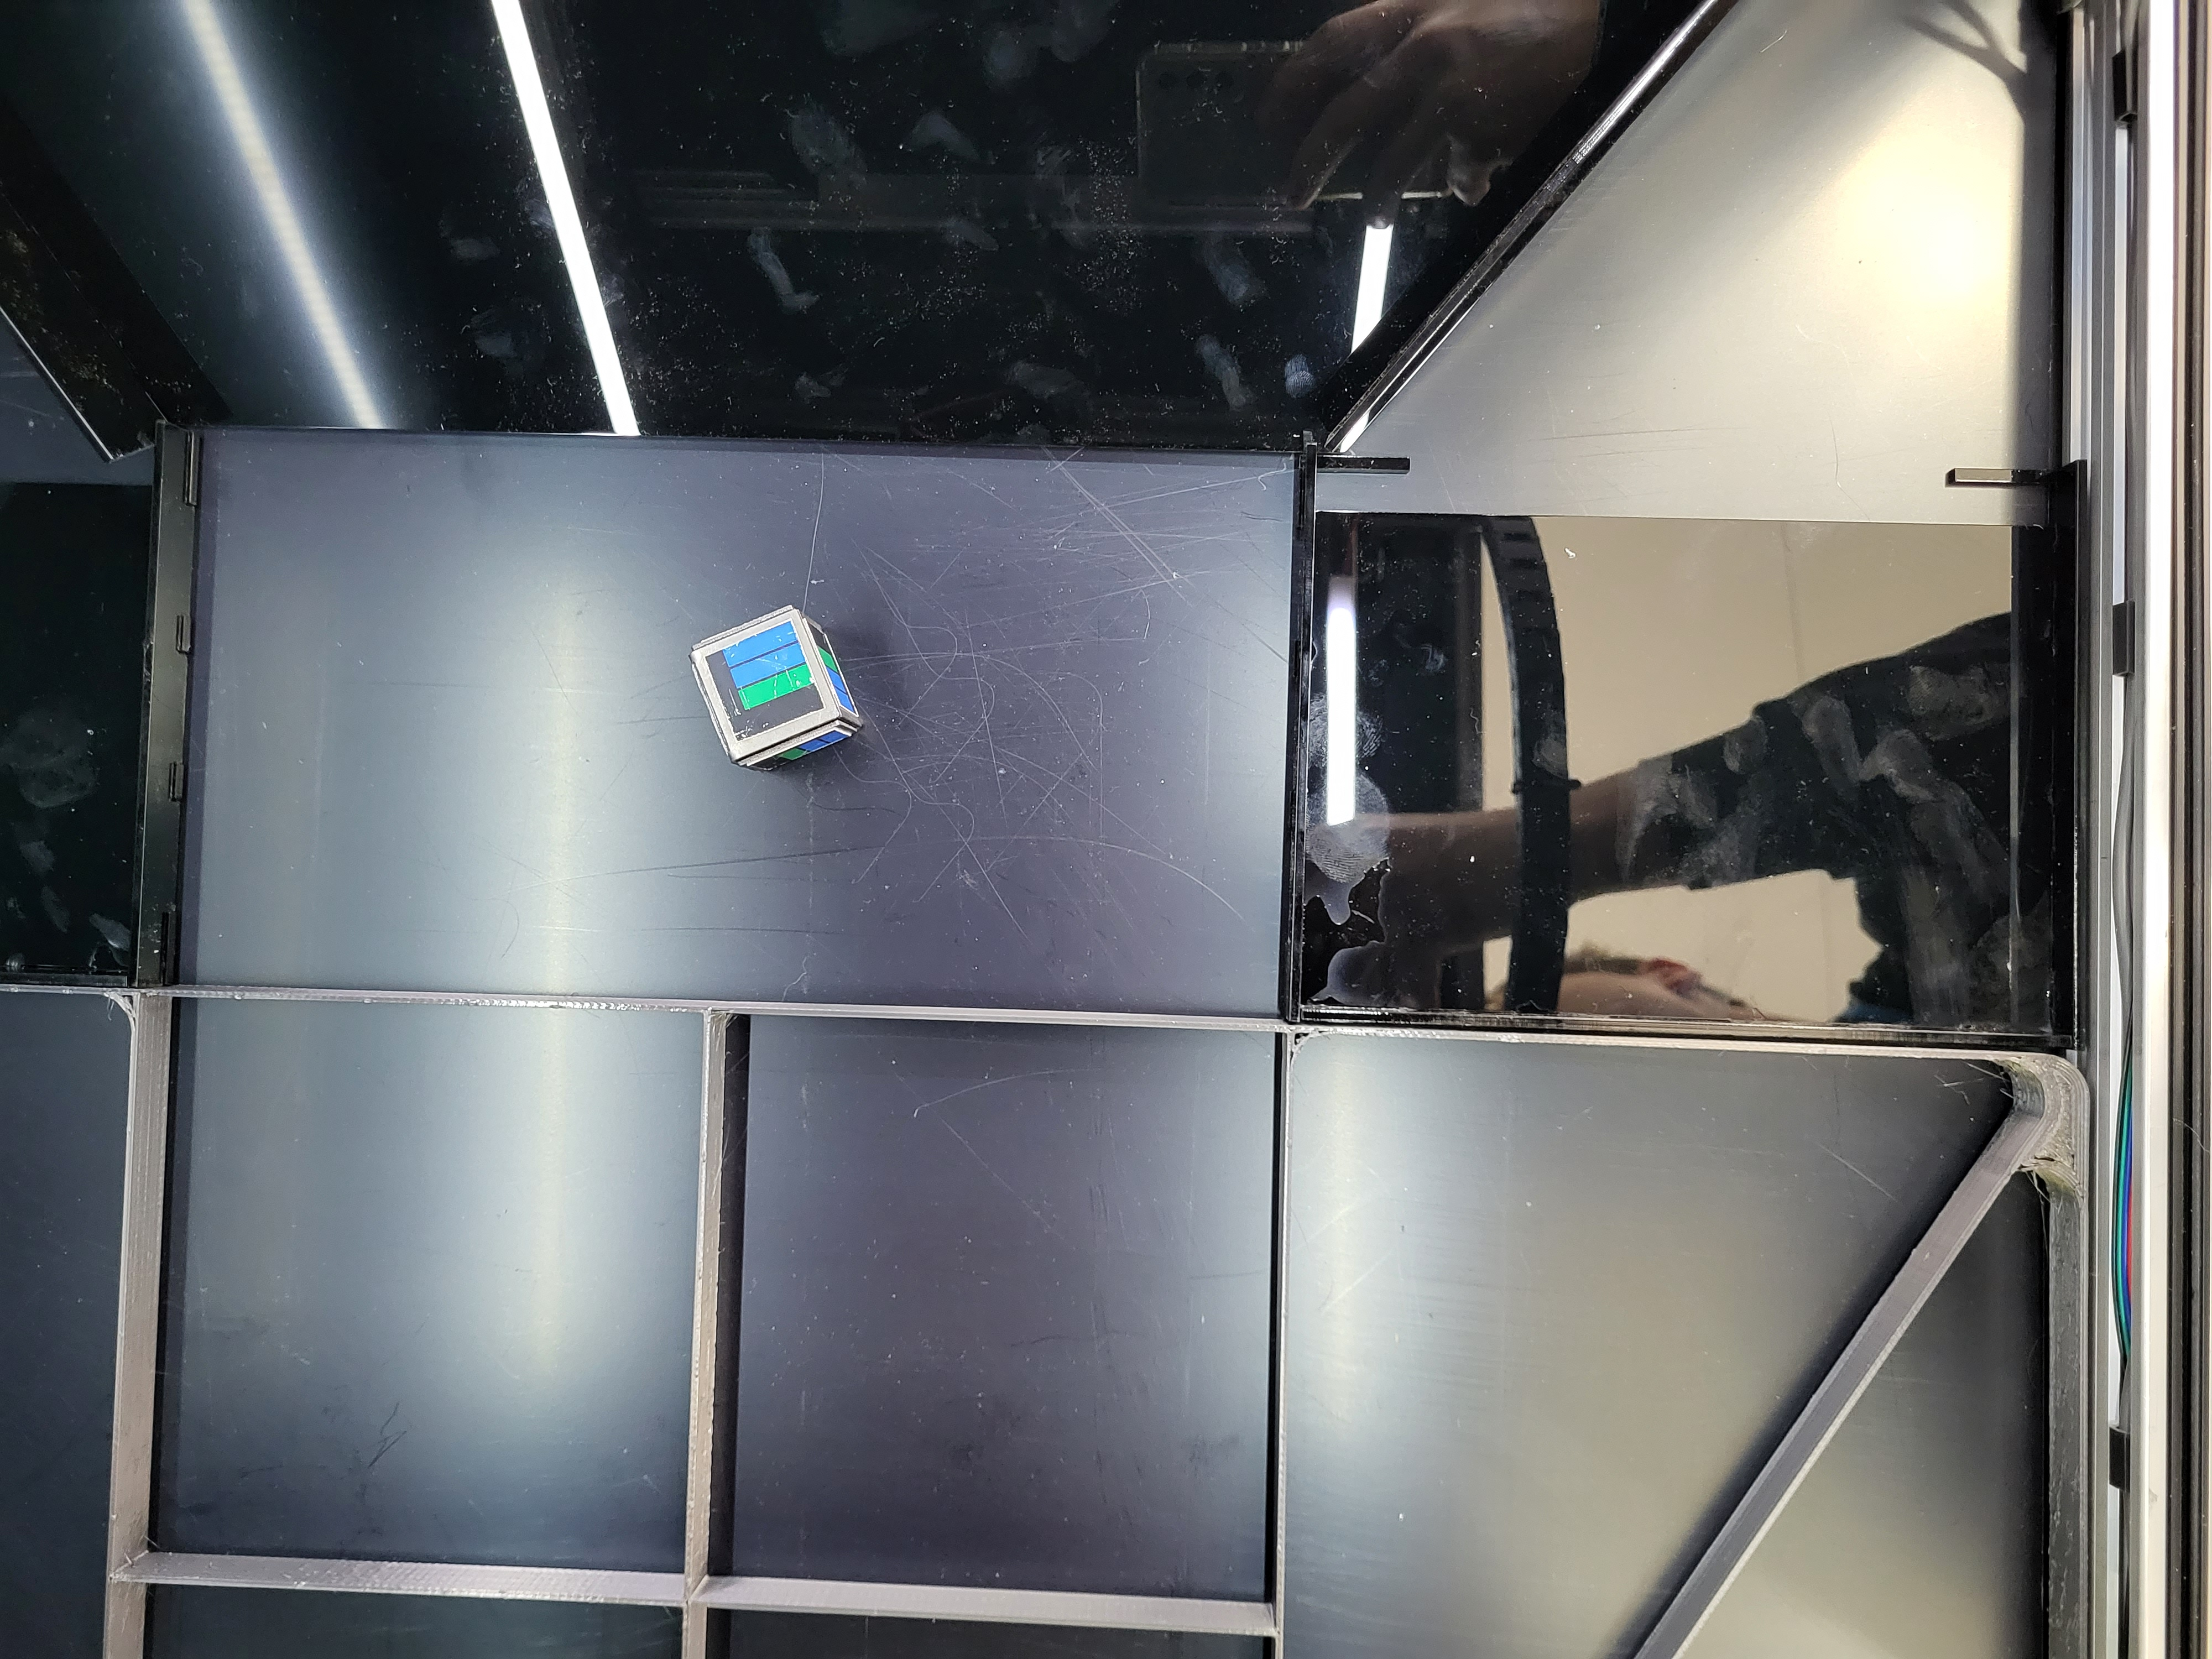Cube: (669, 584, 850, 782)
